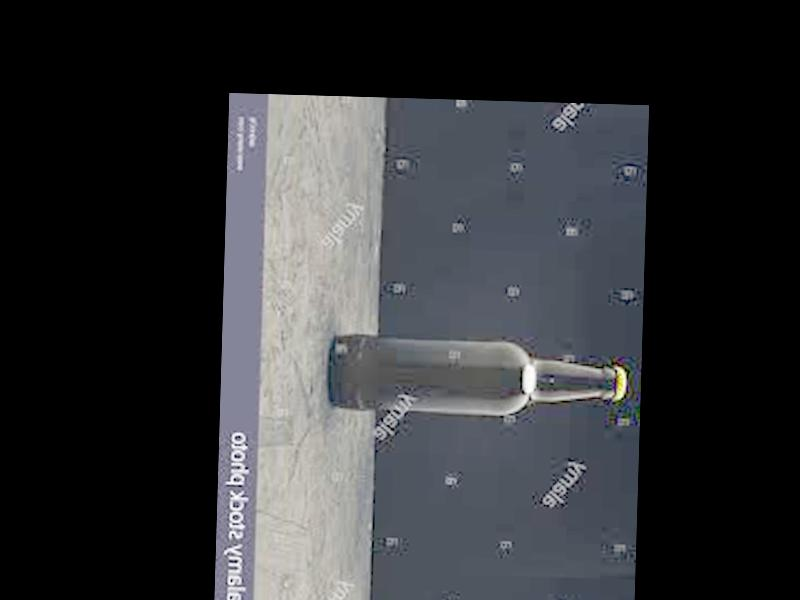Beer: (329, 335, 626, 412)
